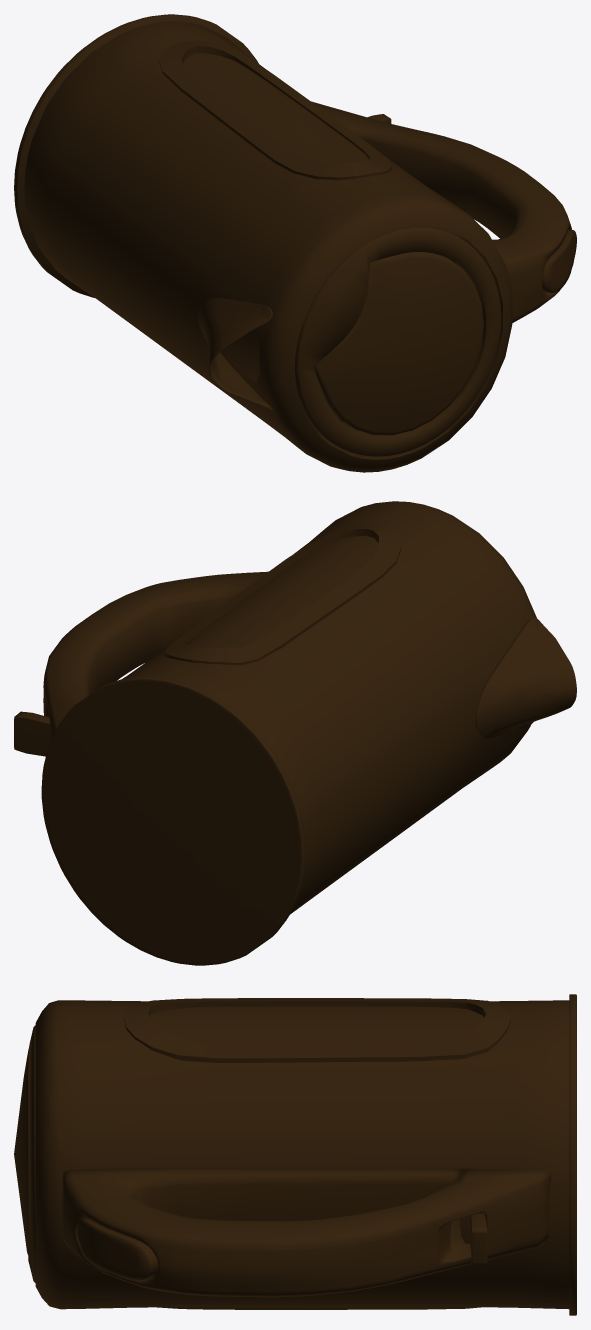
3 renders of one model, top to bottom at view 1: azimuth 30°, elevation 25°; view 2: azimuth 150°, elevation 25°; view 3: azimuth 270°, elevation 25°, orthographic. The views are drawn at different scales.
Bounding box in the file's own units: 0.8898 × 0.5772 × 1.
